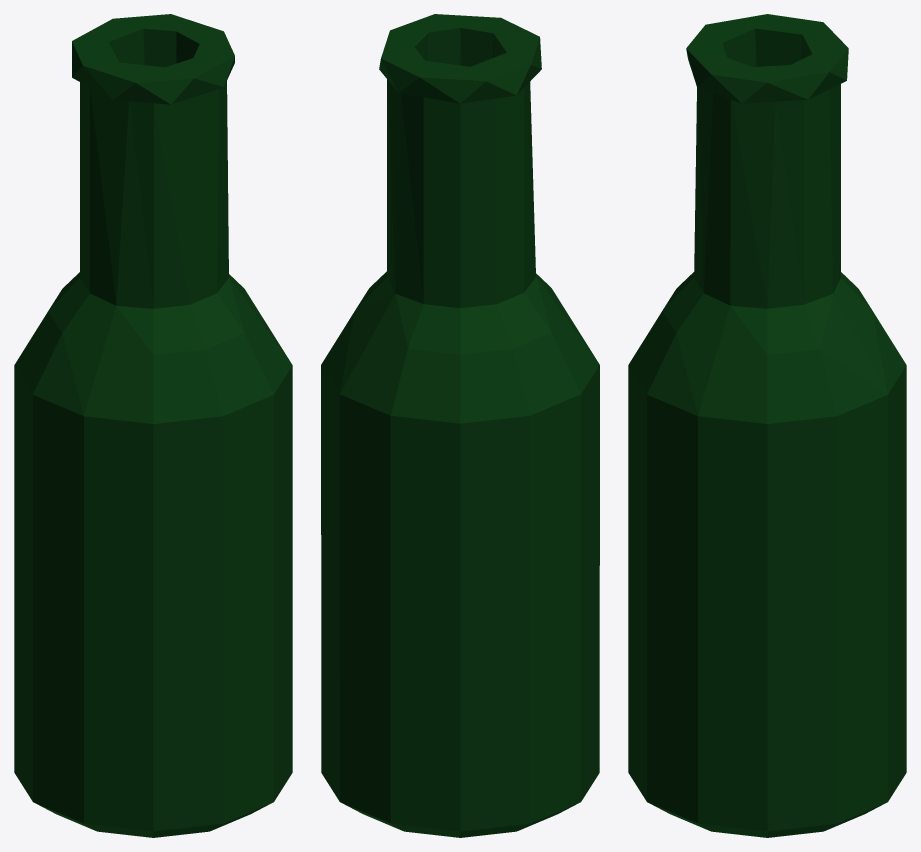
File: bouteille.fbx
3 renders of one model, left to right at view 1: azimuth 30°, elevation 25°; view 2: azimuth 150°, elevation 25°; view 3: azimuth 270°, elevation 25°, orthographic.
Visible parts, largest first — view 1: bouteille; view 2: bouteille; view 3: bouteille.
Boxes of the visible parts, box(x1,y1,x2,y2) form: bouteille: box(14, 14, 292, 837); bouteille: box(321, 14, 599, 837); bouteille: box(628, 14, 906, 837).
Bounding box in the file's own units: 54.79 × 161 × 54.79.
